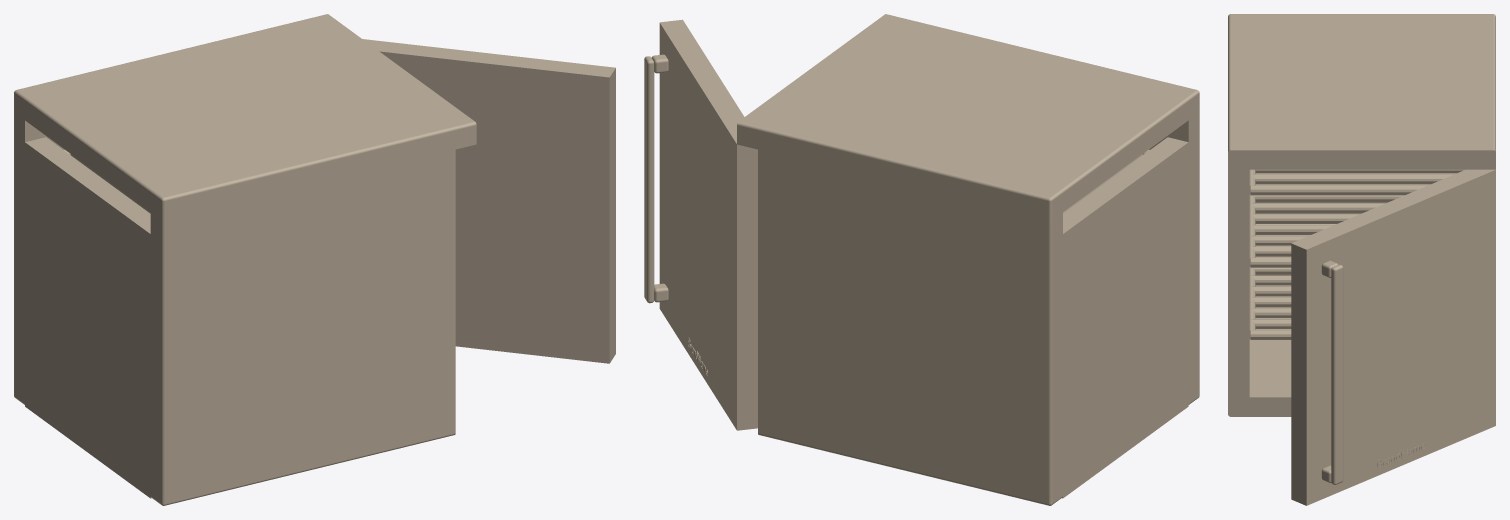
The model's file is 3dcodebench_BeverageFridge_seed0_L1_Q2__opus55.glb.
The picture shows the model from 3 angles, left to right: view 1: azimuth 30°, elevation 25°; view 2: azimuth 150°, elevation 25°; view 3: azimuth 270°, elevation 25°; orthographic projection. The views are drawn at different scales.
Parts seen in each view (by area): view 1: object; view 2: object; view 3: object.
Boxes of the visible parts, <box> form: object: <box>14,14,615,505</box>; object: <box>644,14,1199,505</box>; object: <box>1228,14,1495,505</box>.
Bounding box in the file's own units: 2 × 1.18 × 1.04.
